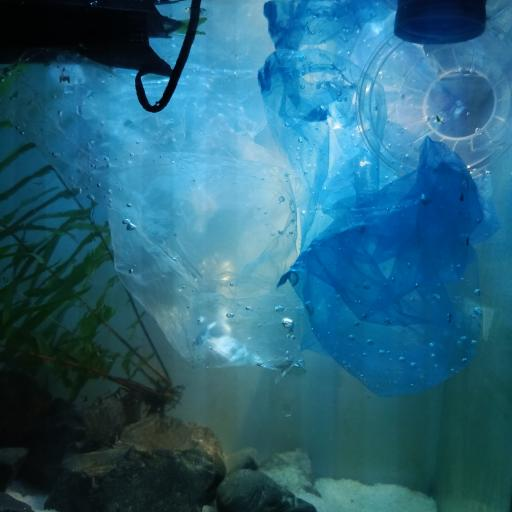bottle_cap: (393, 0, 489, 42)
mask: (0, 0, 204, 116)
plastic_bag: (0, 0, 308, 370), (257, 0, 512, 402)
plastic_cup: (360, 30, 512, 180)
